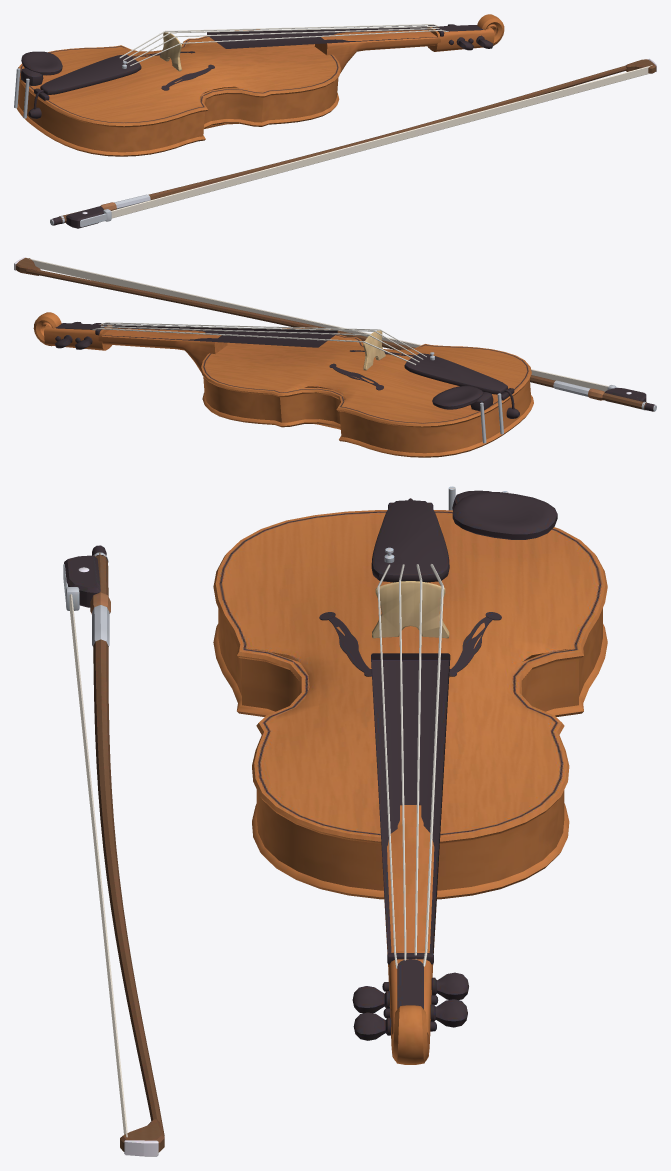
File: violin.glb
3 renders of one model, top to bottom at view 1: azimuth 30°, elevation 25°; view 2: azimuth 150°, elevation 25°; view 3: azimuth 270°, elevation 25°, orthographic. The views are drawn at different scales.
Parts seen in each view (by area): view 1: violin_body, violin_bow, violin_strings; view 2: violin_body, violin_bow, violin_strings; view 3: violin_body, violin_bow, violin_strings.
Boxes of the visible parts, x1,y1,x2,y2 form: violin_body: [14, 14, 504, 156]; violin_bow: [50, 58, 656, 228]; violin_strings: [119, 24, 448, 66]; violin_body: [33, 312, 533, 457]; violin_bow: [14, 257, 656, 411]; violin_strings: [92, 322, 426, 365]; violin_body: [213, 486, 607, 1064]; violin_bow: [63, 545, 164, 1156]; violin_strings: [377, 564, 443, 968].
Size of the model in its own units: 0.7503 by 0.1031 by 0.2884.
Materials: 3 (2 with a texture image).
